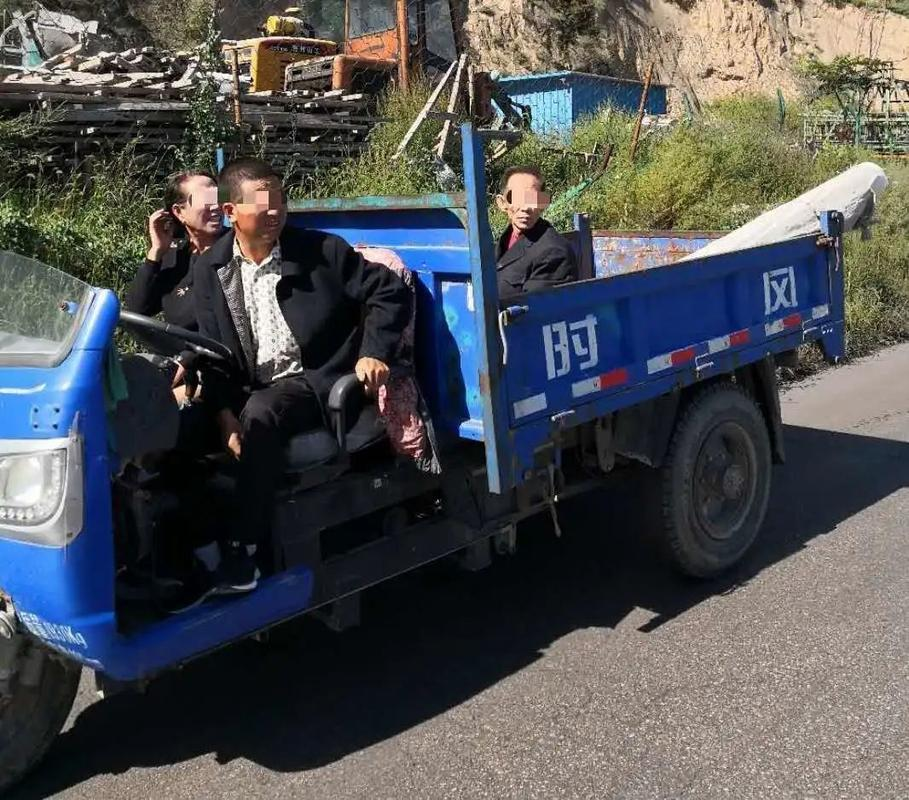driver: (152, 163, 522, 657)
overloading: (94, 79, 897, 674)
passenger: (468, 142, 598, 381), (110, 149, 221, 339)
